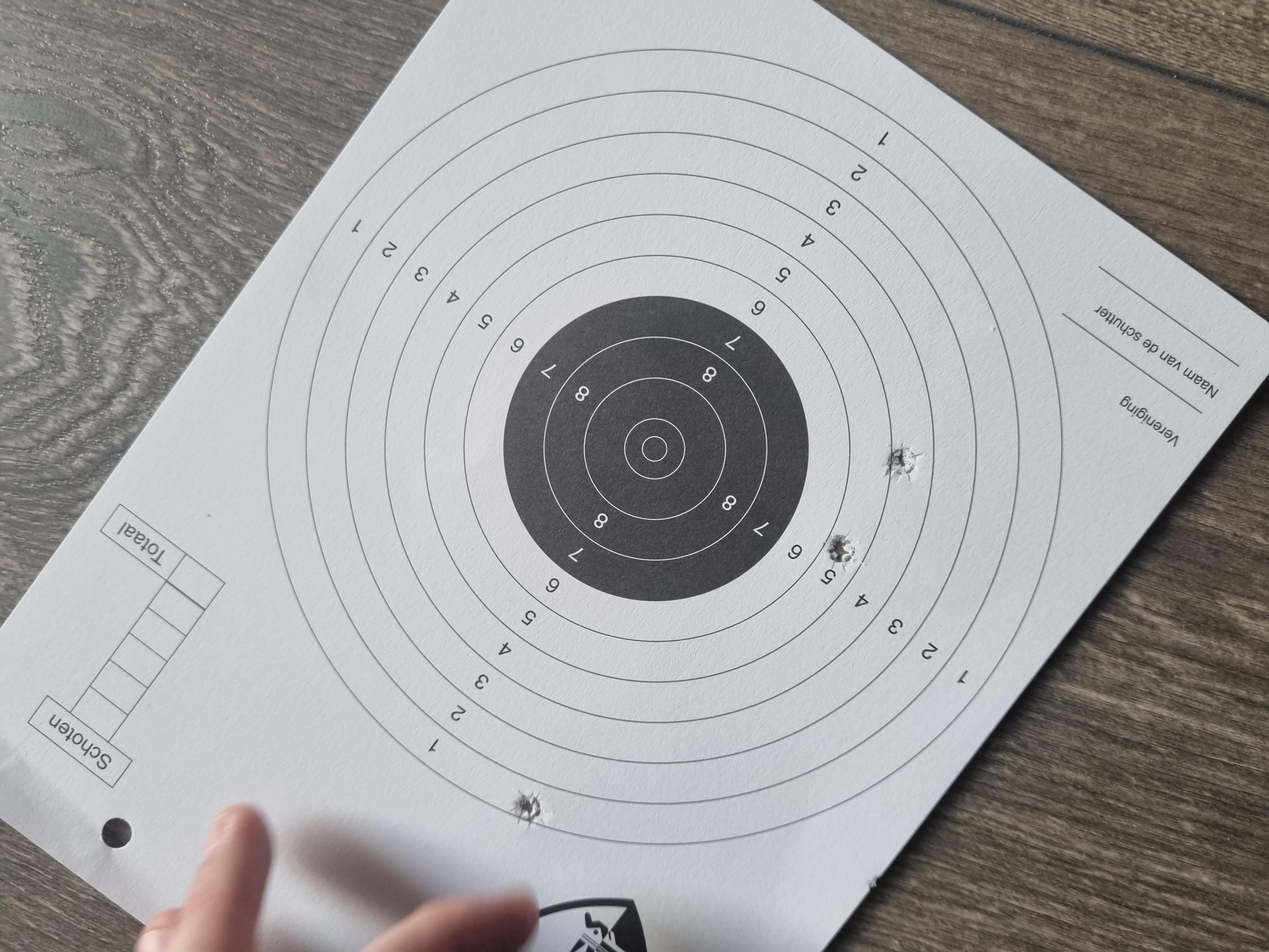hole: (510, 620, 564, 646), (630, 662, 680, 690), (166, 385, 218, 411)
